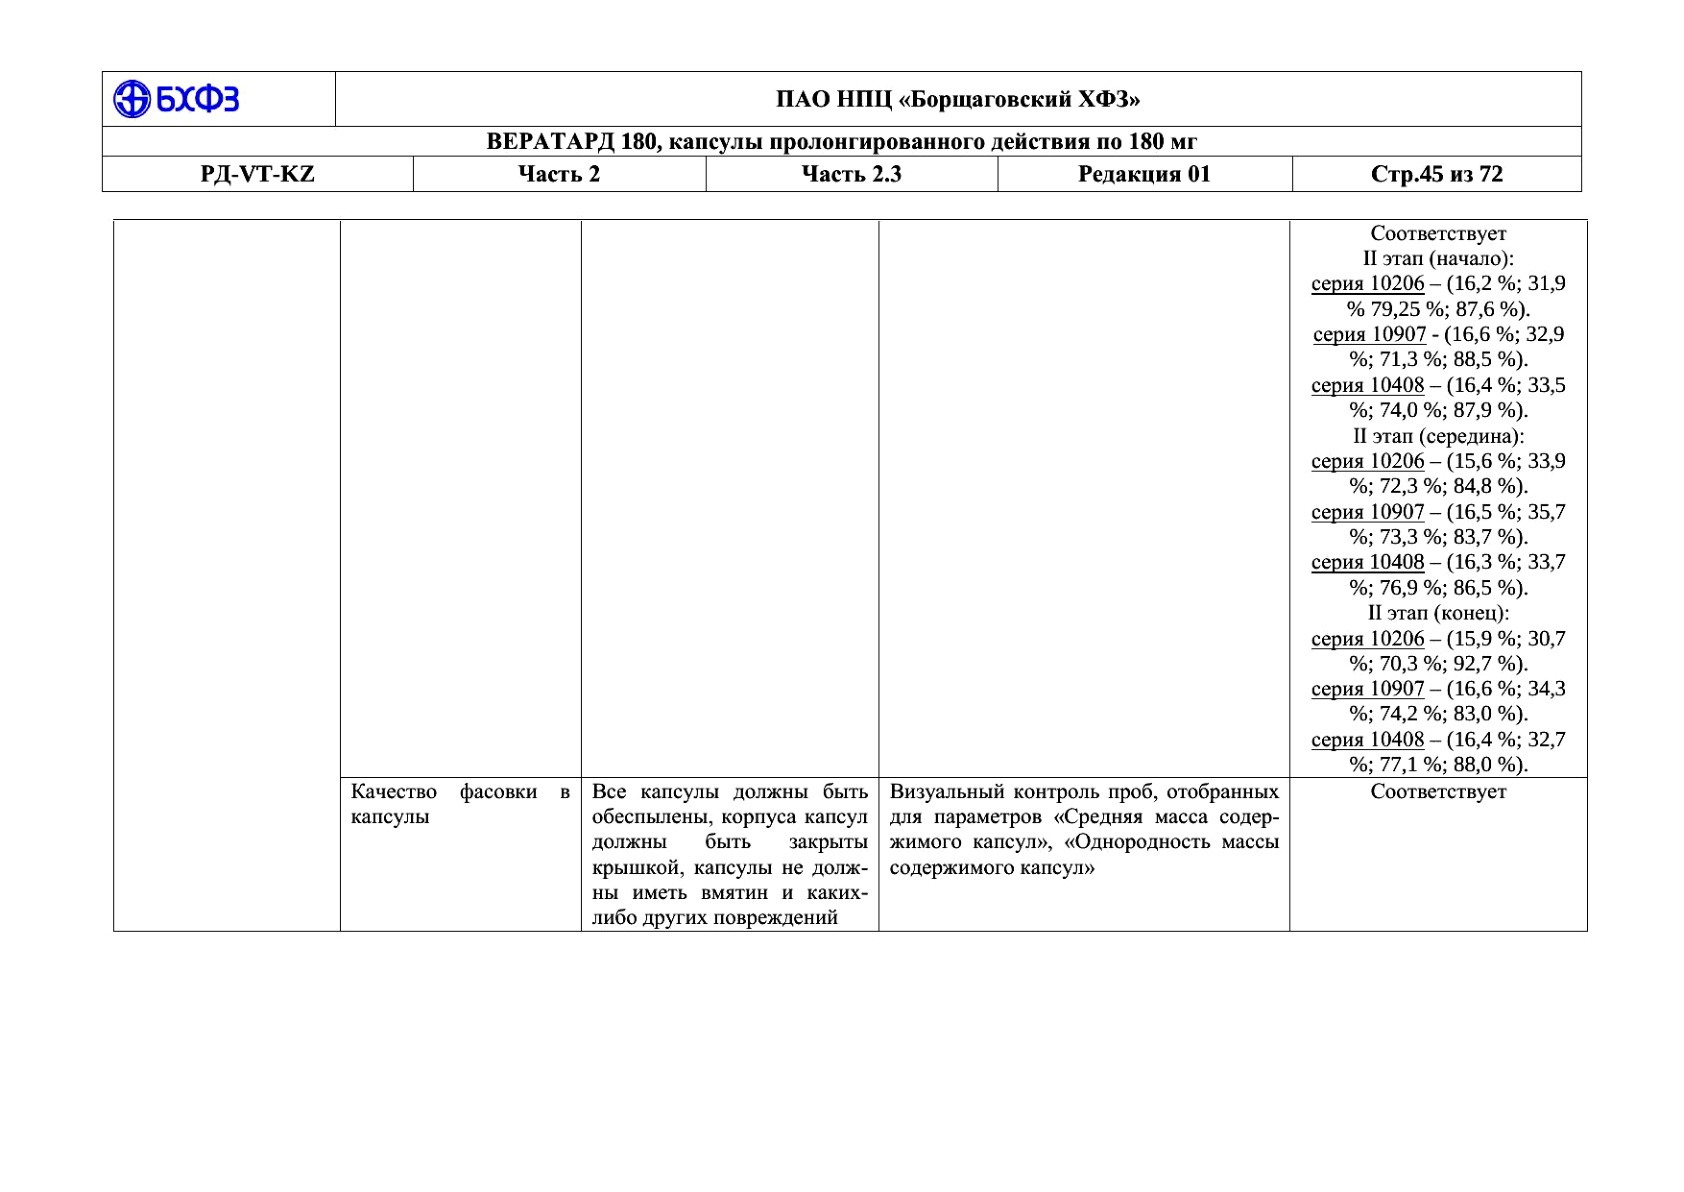full_lined: (112, 218, 1589, 933)
merged_cells: (101, 70, 1583, 194)
